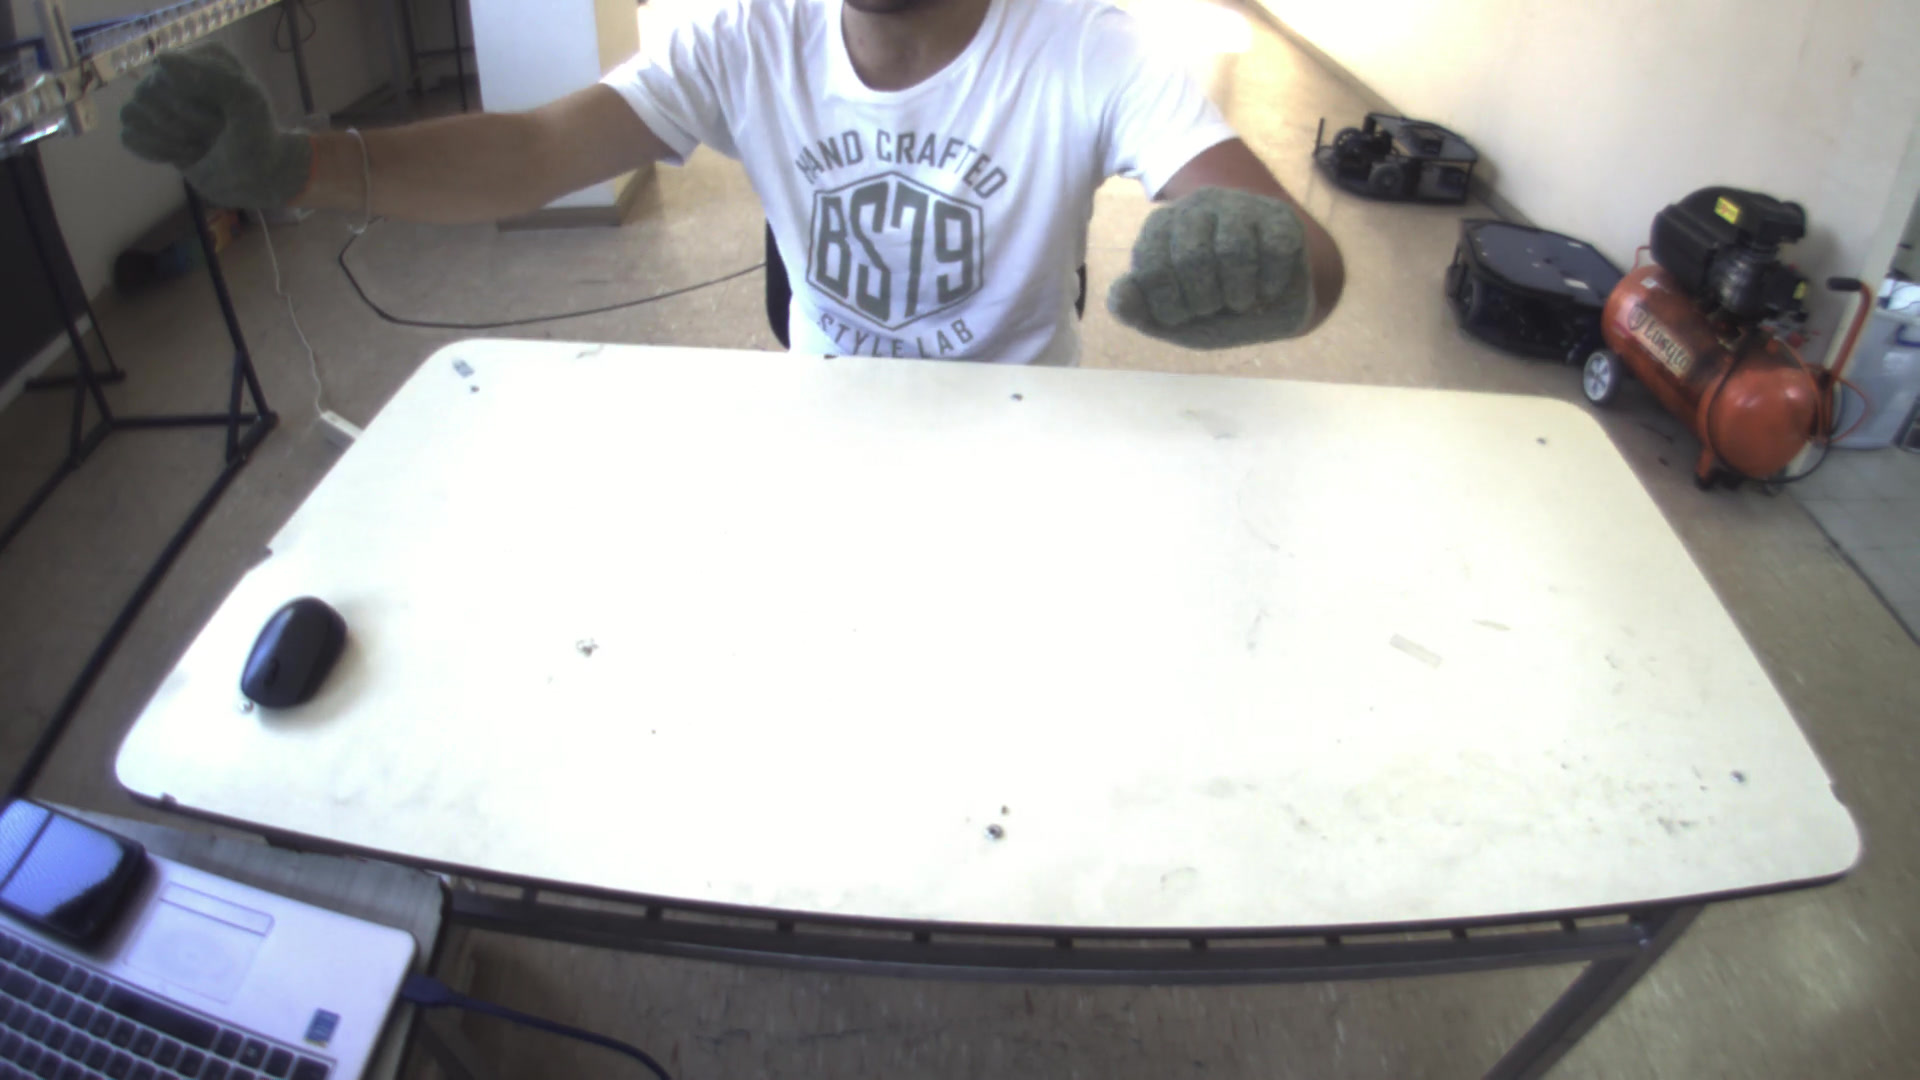hand: (1106, 185, 1327, 349), (111, 44, 310, 207)
